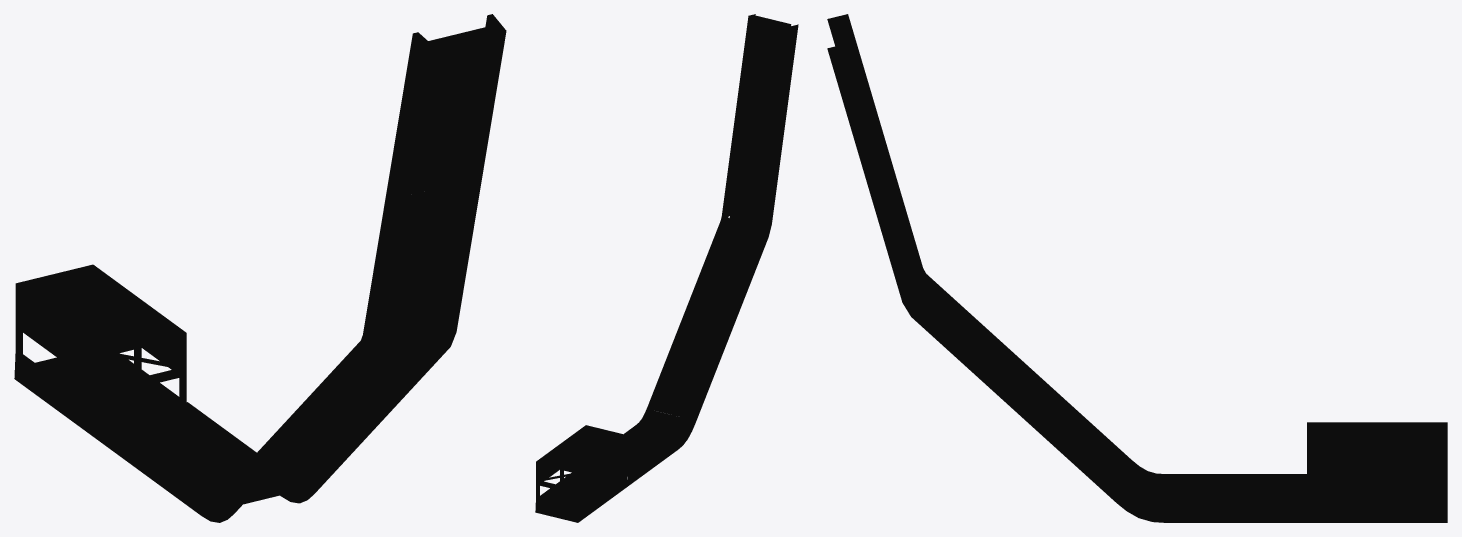
File: Chunk1.obj
The picture shows the model from 3 angles, left to right: view 1: azimuth 30°, elevation 25°; view 2: azimuth 150°, elevation 25°; view 3: azimuth 270°, elevation 25°; orthographic projection. The views are drawn at different scales.
Size of the model in its own units: 92.5 by 705 by 827.
